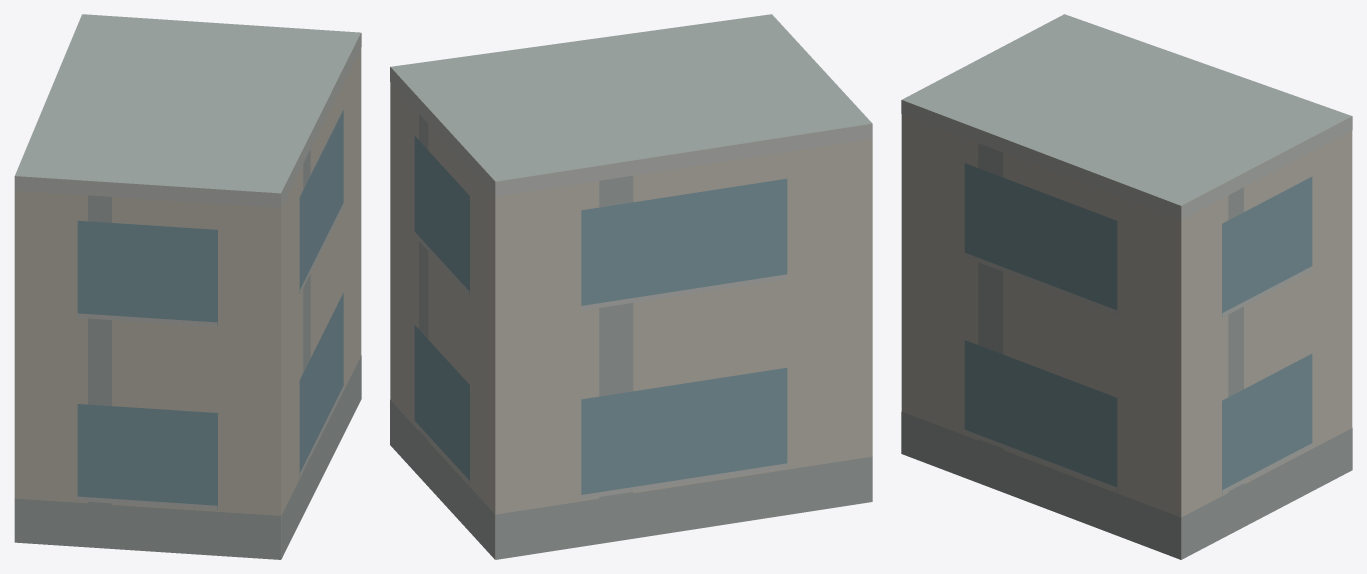
The model's file is survey-upis-32809239.glb.
The picture shows the model from 3 angles, left to right: view 1: azimuth 30°, elevation 25°; view 2: azimuth 150°, elevation 25°; view 3: azimuth 270°, elevation 25°; orthographic projection. The views are drawn at different scales.
Visible parts, largest first — view 1: survey-upis-32809239.tmp; view 2: survey-upis-32809239.tmp; view 3: survey-upis-32809239.tmp.
Boxes of the visible parts, x1,y1,x2,y2 form: survey-upis-32809239.tmp: (14,14,361,559); survey-upis-32809239.tmp: (390,14,872,559); survey-upis-32809239.tmp: (901,14,1352,559).
Size of the model in its own units: 7.1 by 6.1 by 7.05.
